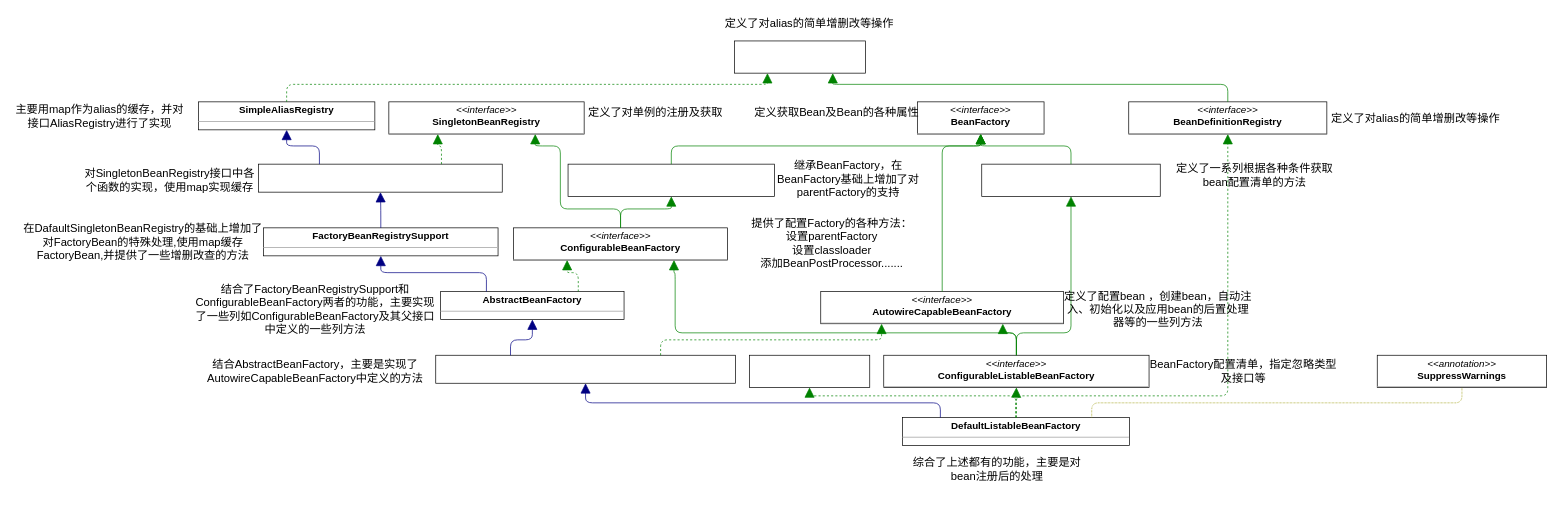
The diagram is 1559 pixels wide and 505 high, and some of its shapes have lost their labels. Each missing label, with the box of its shape:
<<interface>> AliasRegistry: (734, 40, 866, 73)
<<interface>> HierarchicalBeanFactory: (567, 163, 775, 196)
<<interface>> ListableBeanFactory: (981, 163, 1160, 196)
<<interface>> Serializable: (749, 355, 870, 387)
AbstractAutowireCapableBeanFactory: (435, 355, 735, 383)
DefaultSingletonBeanRegistry: (258, 163, 502, 192)
